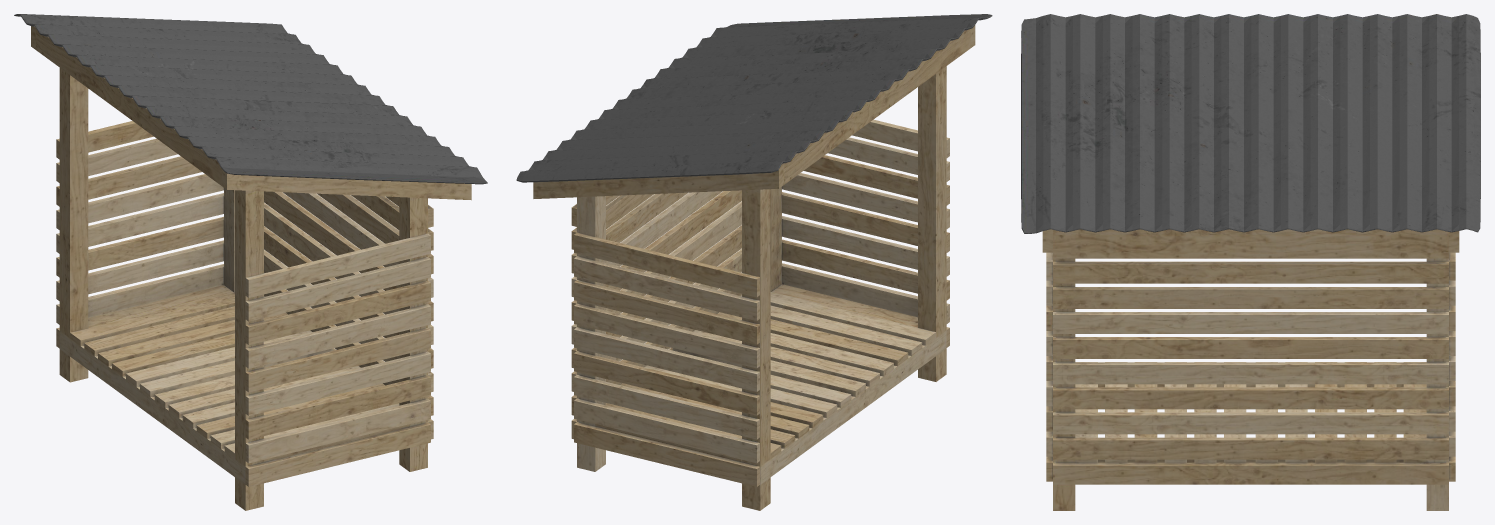
Rendered from 50OKH56YQ0XYXUEKHPI0TOLXM.obj.
3 views of the same model, side by side, from view 1: azimuth 30°, elevation 25°; view 2: azimuth 150°, elevation 25°; view 3: azimuth 270°, elevation 25° (orthographic). The views are drawn at different scales.
Parts seen in each view (by area): view 1: Object_TexMap_0; view 2: Object_TexMap_0; view 3: Object_TexMap_0.
Boxes of the visible parts, x1,y1,x2,y2 form: Object_TexMap_0: (14,14,487,510); Object_TexMap_0: (516,14,992,510); Object_TexMap_0: (1021,14,1480,510).
Bounding box in the file's own units: 1.76 × 2.32 × 2.5.
Materials: 1 (1 with a texture image).
